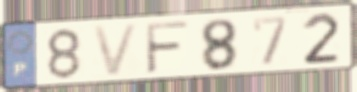2: (300, 10, 342, 65)
7: (250, 14, 289, 68)
8: (197, 17, 240, 72), (44, 26, 85, 81)
F: (144, 20, 192, 76)
V: (89, 21, 142, 79)
